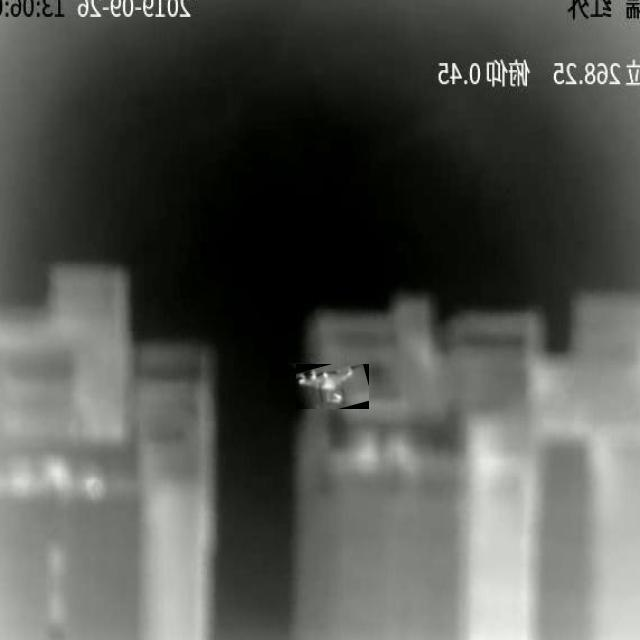drone: (296, 364, 364, 409)
